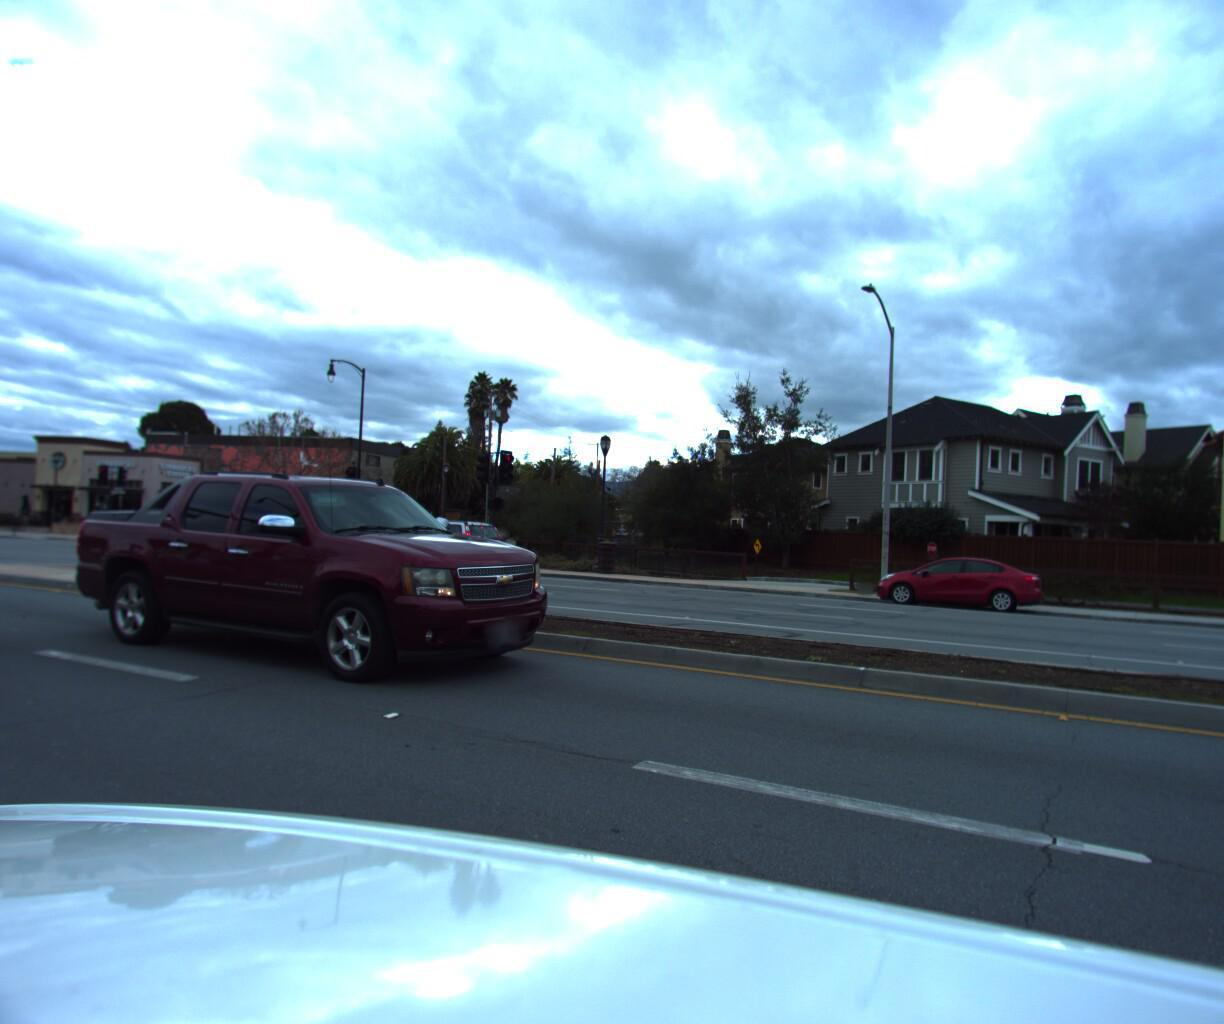car: (51, 464, 578, 708), (347, 517, 526, 592), (861, 554, 1047, 620)
